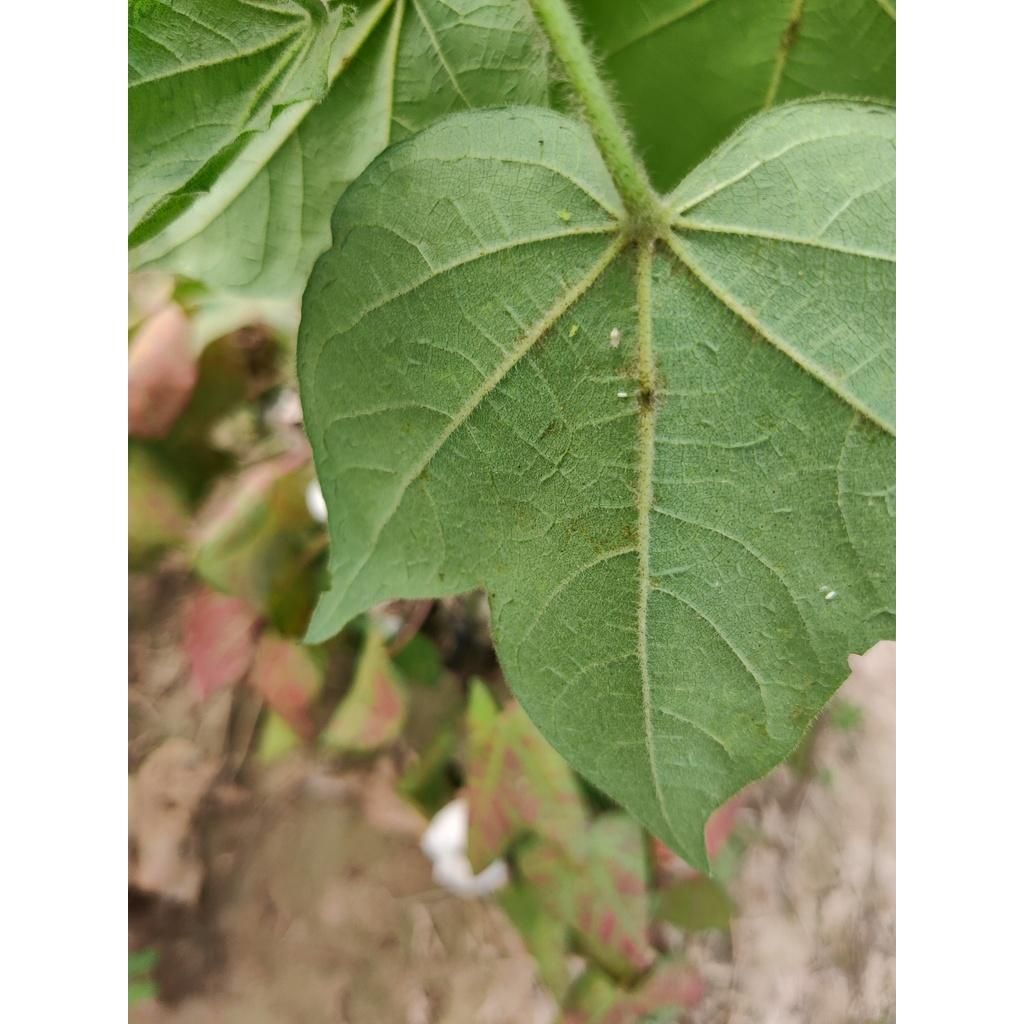adult: (609, 328, 620, 348), (825, 591, 837, 601), (617, 391, 628, 398), (818, 585, 828, 592)
